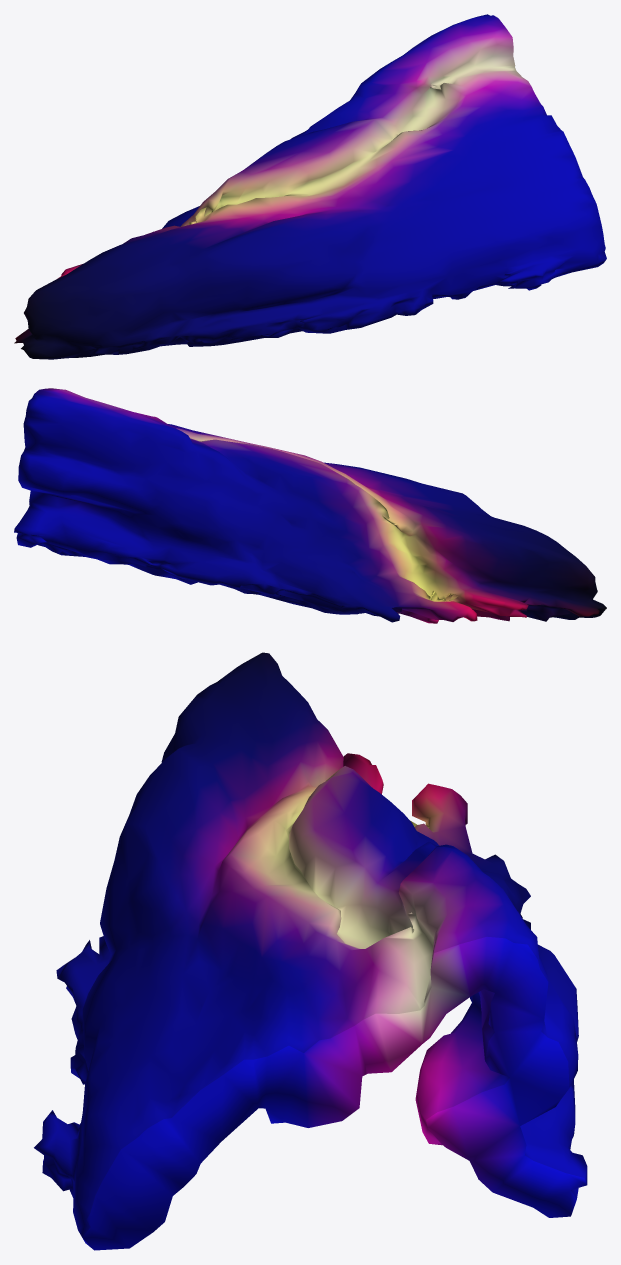
The model's file is ember_iron_vein-u4-cold-lod0.gltf.
The picture shows the model from 3 angles, top to bottom: view 1: azimuth 30°, elevation 25°; view 2: azimuth 150°, elevation 25°; view 3: azimuth 270°, elevation 25°; orthographic projection. The views are drawn at different scales.
Visible parts, largest first — view 1: ember_iron_vein-u4-cold-lod0; view 2: ember_iron_vein-u4-cold-lod0; view 3: ember_iron_vein-u4-cold-lod0.
Part boxes in pixels (<box>): ember_iron_vein-u4-cold-lod0: <box>14,14,606,359</box>; ember_iron_vein-u4-cold-lod0: <box>14,388,606,623</box>; ember_iron_vein-u4-cold-lod0: <box>34,652,587,1250</box>.
Size of the model in its own units: 1.65 by 0.489 by 0.7795.
